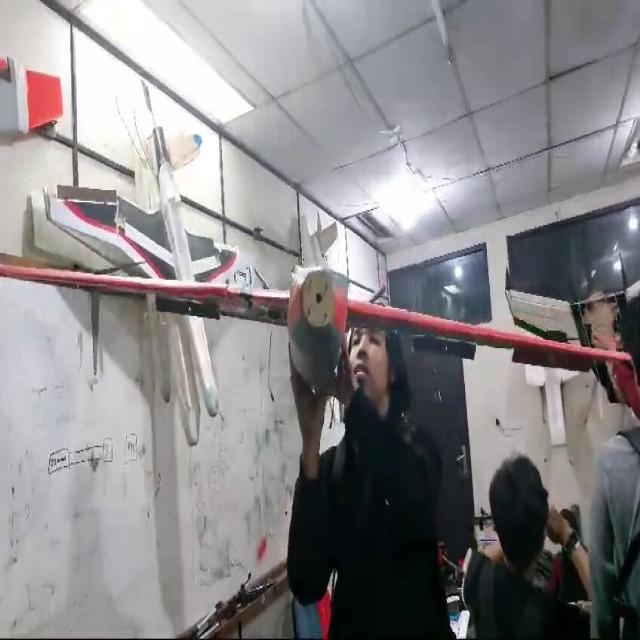plane: (1, 78, 638, 443)
